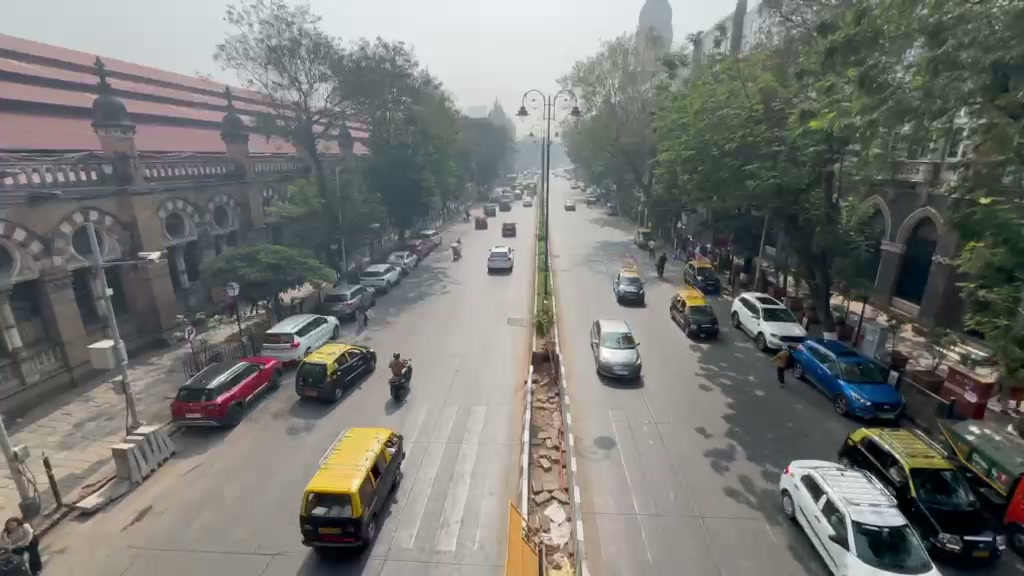car: (836, 425, 1004, 565), (778, 457, 939, 575), (784, 337, 906, 425), (169, 354, 283, 428), (294, 340, 378, 403), (729, 292, 808, 354), (259, 312, 339, 365), (589, 317, 643, 381), (318, 281, 377, 322), (671, 293, 721, 341), (1003, 473, 1024, 556), (683, 302, 721, 341), (359, 263, 402, 294), (613, 271, 646, 307), (486, 246, 514, 275), (387, 250, 419, 272), (698, 271, 724, 296)
motorcycle: (386, 363, 412, 405)
truck: (298, 426, 406, 556)
